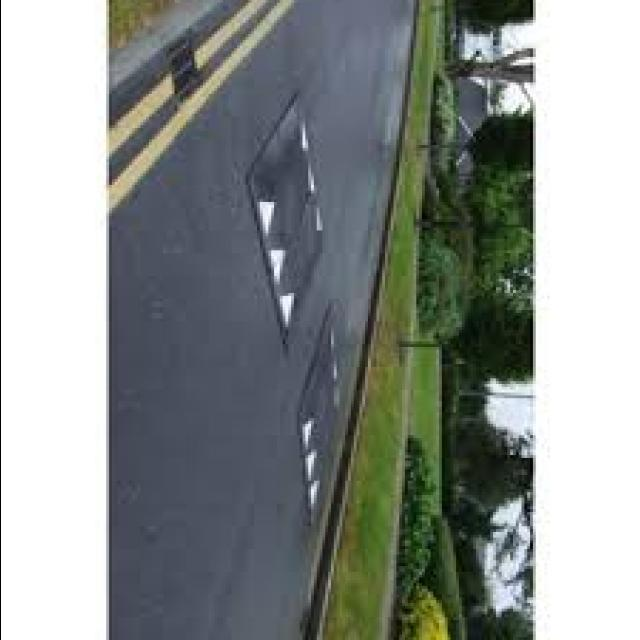speedbreaker: (228, 26, 346, 516)
